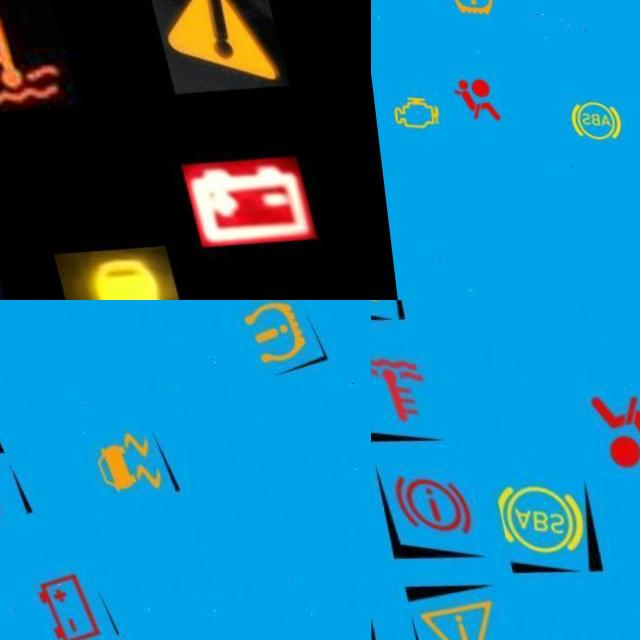Central Warning lamp: (147, 0, 289, 93)
Engine cooling system: (0, 0, 77, 118)
